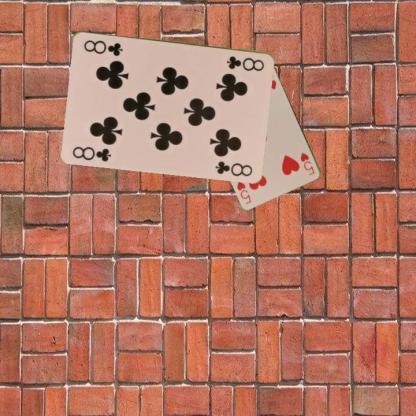5h: (298, 150, 316, 176)
8c: (224, 53, 266, 72), (70, 144, 112, 162)
